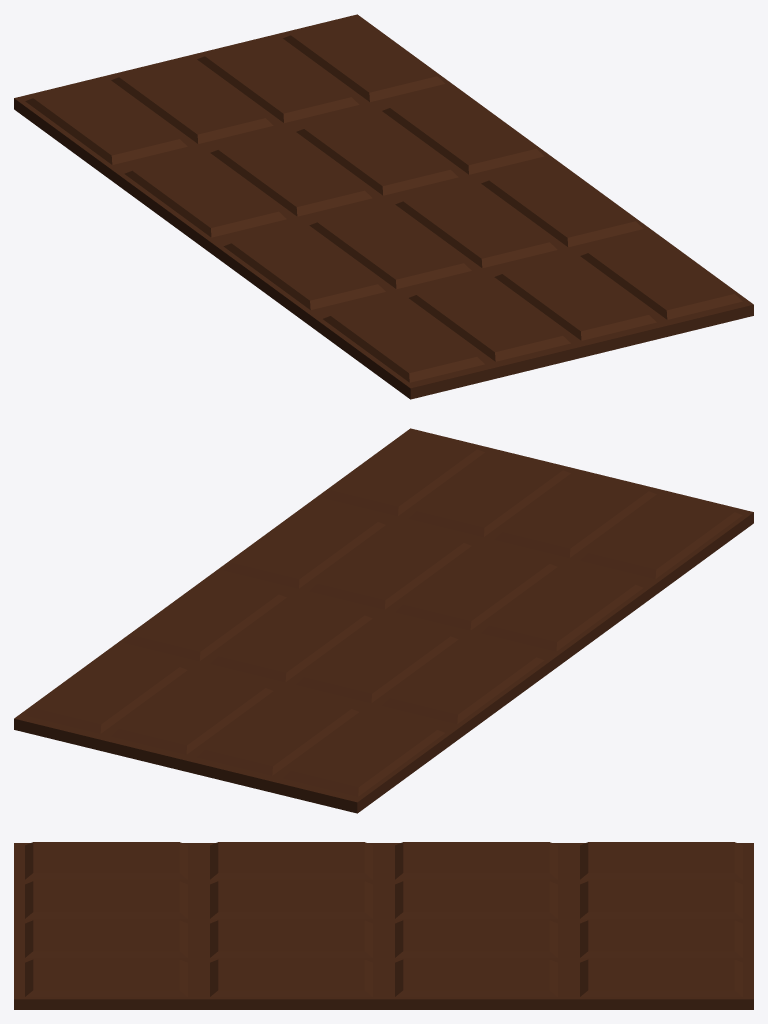
Rendered from Bar.glb.
3 views of the same model, one above another, from view 1: azimuth 30°, elevation 25°; view 2: azimuth 150°, elevation 25°; view 3: azimuth 270°, elevation 25° (orthographic). The views are drawn at different scales.
Visible parts, largest first — view 1: Cube; view 2: Cube; view 3: Cube.
Part boxes in pixels (<box>): Cube: <box>14,14,753,399</box>; Cube: <box>14,428,753,813</box>; Cube: <box>14,842,753,1009</box>.
Bounding box in the file's own units: 2 × 0.0923 × 4.
